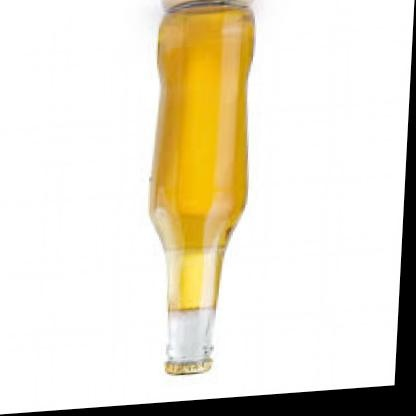trash: (150, 0, 253, 374)
